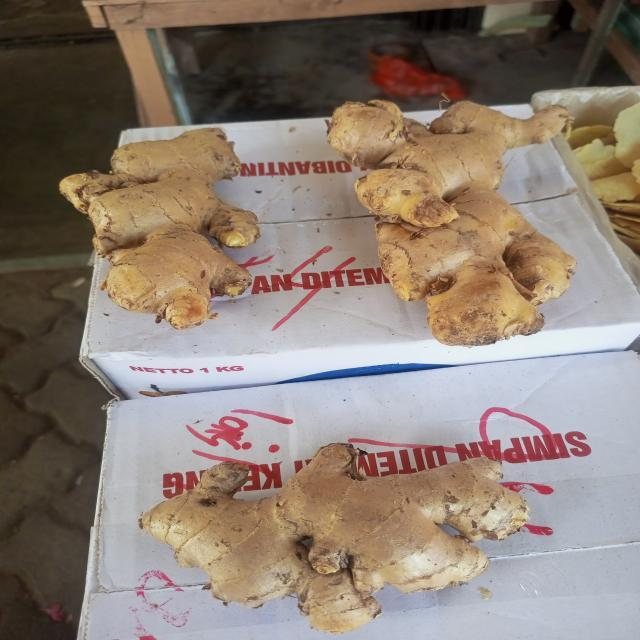ginger: (145, 452, 528, 617), (334, 96, 560, 339), (73, 129, 257, 323)
